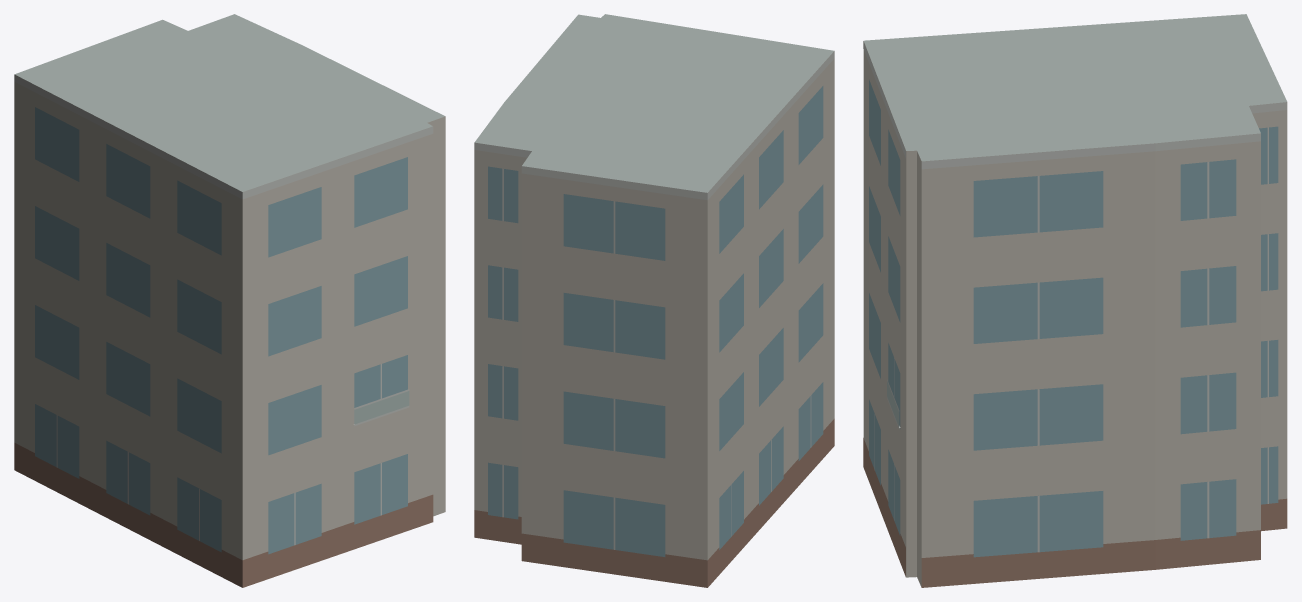
Rendered from survey-upis-32570860.glb.
3 views of the same model, side by side, from view 1: azimuth 30°, elevation 25°; view 2: azimuth 150°, elevation 25°; view 3: azimuth 270°, elevation 25° (orthographic). The views are drawn at different scales.
Visible parts, largest first — view 1: survey-upis-32570860.tmp; view 2: survey-upis-32570860.tmp; view 3: survey-upis-32570860.tmp.
Part boxes in pixels (box(x1,y1,x2,y2)): survey-upis-32570860.tmp: box(14, 14, 445, 587); survey-upis-32570860.tmp: box(474, 14, 834, 587); survey-upis-32570860.tmp: box(863, 14, 1287, 587).
Bounding box in the file's own units: 9.72 × 13.1 × 11.81.
